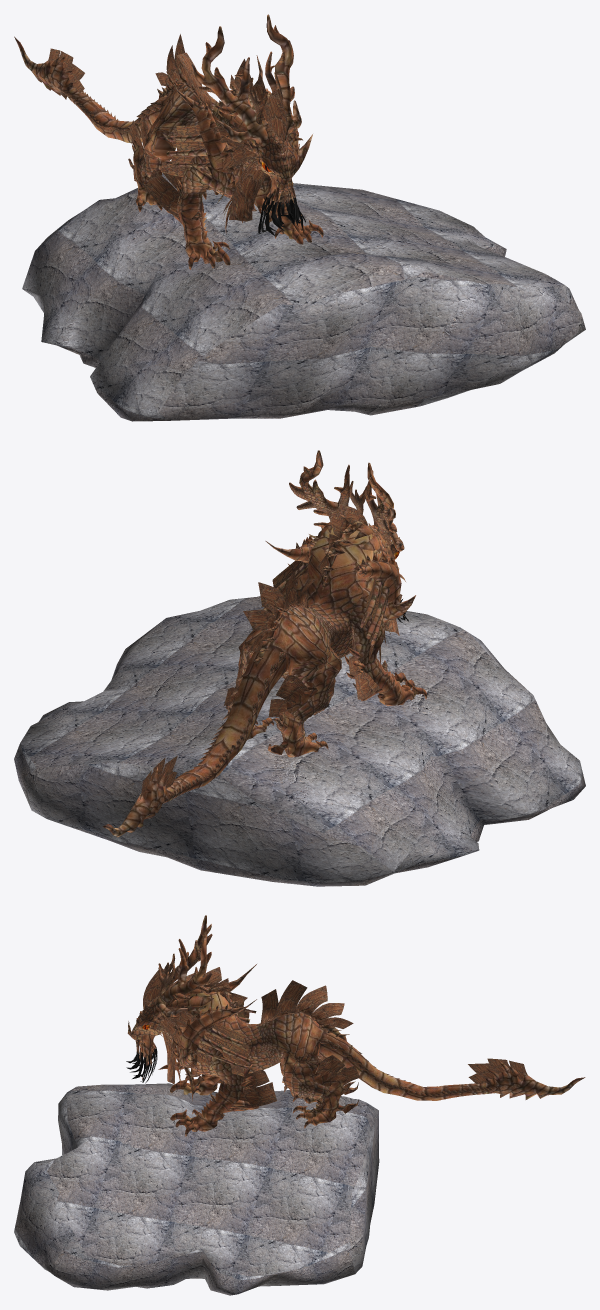
The model's file is Dragão Aroldo.fbx.
3 views of the same model, one above another, from view 1: azimuth 30°, elevation 25°; view 2: azimuth 150°, elevation 25°; view 3: azimuth 270°, elevation 25° (orthographic). The views are drawn at different scales.
Parts seen in each view (by area): view 1: Aroldo.004; view 2: Aroldo.004; view 3: Aroldo.004.
Part boxes in pixels (x1,y1,x2,y2): Aroldo.004: [14, 14, 585, 421]; Aroldo.004: [14, 450, 585, 886]; Aroldo.004: [14, 915, 585, 1295].
Bounding box in the file's own units: 54378 × 39862 × 72725.
